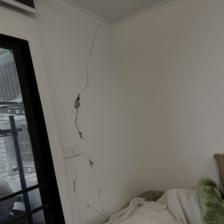High: (55, 16, 119, 218)
